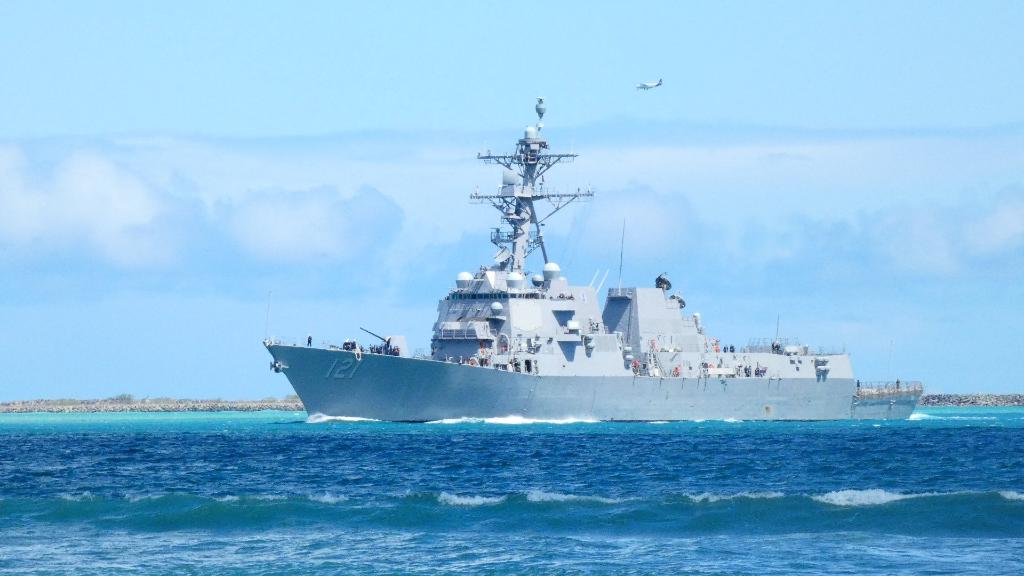Warship: (259, 94, 941, 426)
